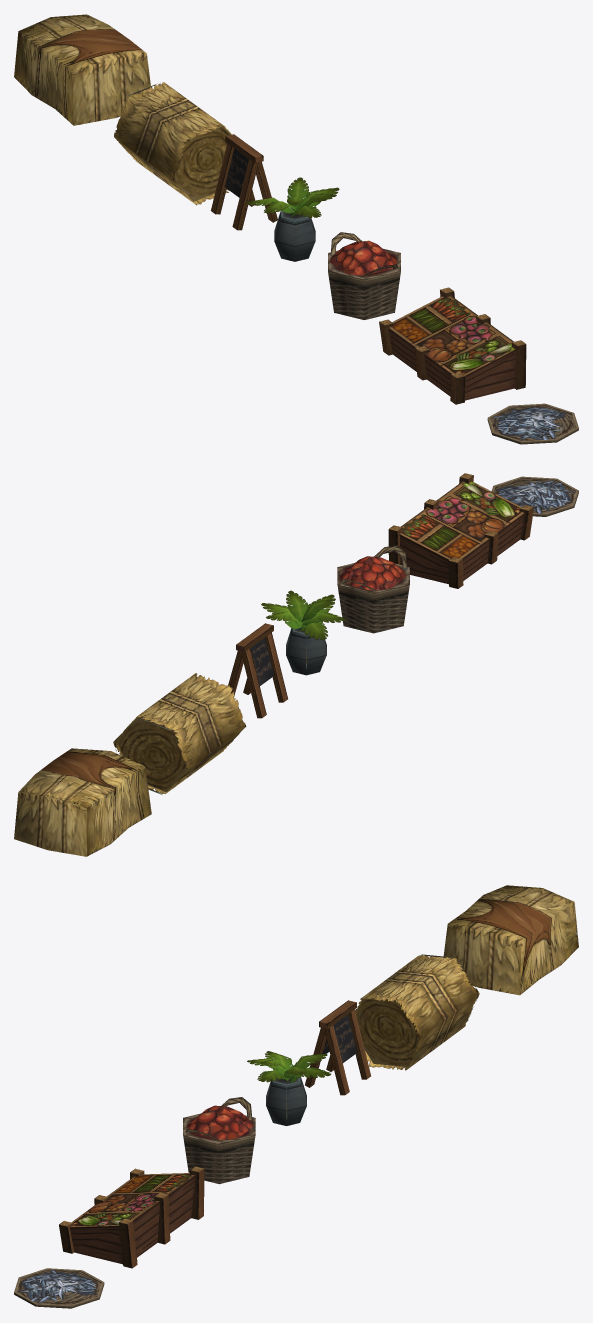
The model's file is 2_CZ_HuoTan_01.FBX.
The picture shows the model from 3 angles, top to bottom: view 1: azimuth 30°, elevation 25°; view 2: azimuth 150°, elevation 25°; view 3: azimuth 330°, elevation 25°; orthographic projection.
Parts seen in each view (by area): view 1: 2_CZ_HuoTan_07, 2_CZ_HuoTan_01, 2_CZ_HuoTan_06, 2_CZ_HuoTan_03, 2_CZ_HuoTan_04, 2_CZ_HuoTan_05, 2_CZ_HuoTan_02; view 2: 2_CZ_HuoTan_07, 2_CZ_HuoTan_01, 2_CZ_HuoTan_06, 2_CZ_HuoTan_03, 2_CZ_HuoTan_04, 2_CZ_HuoTan_05, 2_CZ_HuoTan_02; view 3: 2_CZ_HuoTan_07, 2_CZ_HuoTan_06, 2_CZ_HuoTan_01, 2_CZ_HuoTan_03, 2_CZ_HuoTan_04, 2_CZ_HuoTan_05, 2_CZ_HuoTan_02.
Boxes of the visible parts, box(x1,y1,x2,y2) form: 2_CZ_HuoTan_07: box(14, 14, 150, 125); 2_CZ_HuoTan_01: box(379, 287, 526, 404); 2_CZ_HuoTan_06: box(114, 82, 231, 205); 2_CZ_HuoTan_03: box(328, 232, 400, 319); 2_CZ_HuoTan_04: box(245, 177, 339, 261); 2_CZ_HuoTan_05: box(211, 134, 277, 230); 2_CZ_HuoTan_02: box(487, 403, 578, 444); 2_CZ_HuoTan_07: box(14, 748, 151, 856); 2_CZ_HuoTan_01: box(388, 473, 533, 588); 2_CZ_HuoTan_06: box(113, 673, 246, 794); 2_CZ_HuoTan_03: box(337, 545, 409, 633); 2_CZ_HuoTan_04: box(261, 590, 345, 675); 2_CZ_HuoTan_05: box(228, 623, 287, 718); 2_CZ_HuoTan_02: box(491, 476, 578, 516); 2_CZ_HuoTan_07: box(443, 885, 578, 995); 2_CZ_HuoTan_06: box(355, 954, 479, 1070); 2_CZ_HuoTan_01: box(59, 1166, 204, 1268); 2_CZ_HuoTan_03: box(183, 1097, 255, 1184); 2_CZ_HuoTan_04: box(247, 1051, 331, 1125); 2_CZ_HuoTan_05: box(305, 1000, 370, 1095); 2_CZ_HuoTan_02: box(14, 1268, 104, 1308).
Size of the model in its own units: 182 by 168 by 1798.
